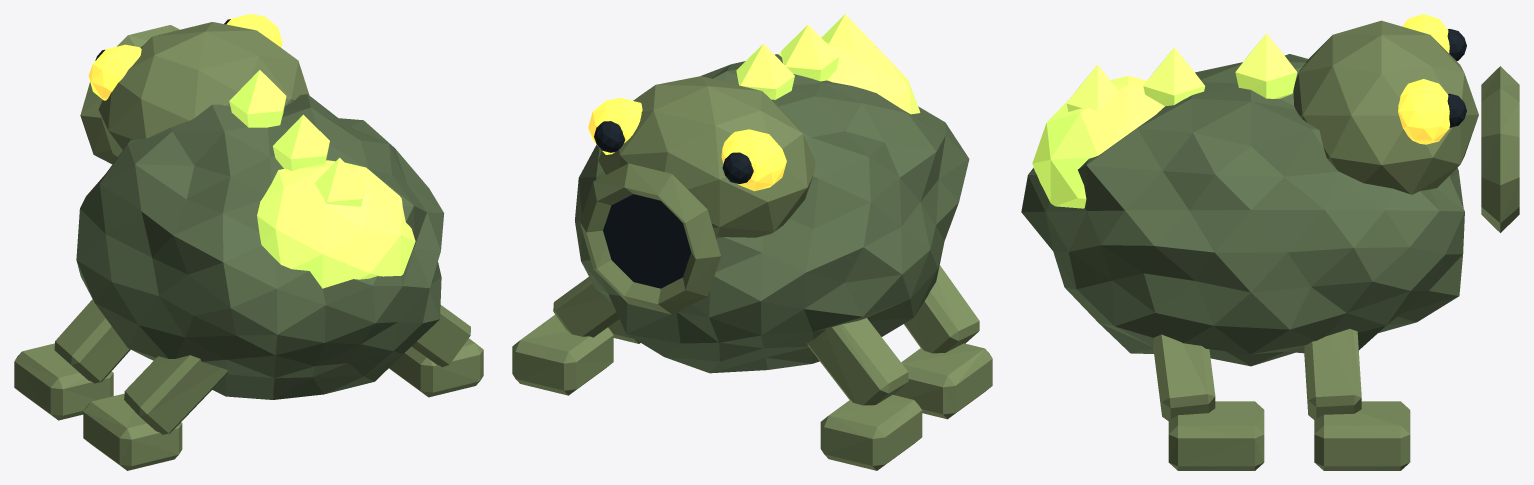
File: enemy_spitter.glb
3 renders of one model, left to right at view 1: azimuth 30°, elevation 25°; view 2: azimuth 150°, elevation 25°; view 3: azimuth 270°, elevation 25°, orthographic. The views are drawn at different scales.
Visible parts, largest first — view 1: body, venom_sac; view 2: body, venom_sac; view 3: body, venom_sac.
Boxes of the visible parts, bbox=[...] form: body: bbox=[14, 14, 483, 470]; venom_sac: bbox=[257, 160, 415, 288]; body: bbox=[512, 14, 992, 470]; venom_sac: bbox=[778, 42, 920, 114]; body: bbox=[1021, 14, 1519, 470]; venom_sac: bbox=[1032, 75, 1164, 208].
Bounding box in the file's own units: 1.16 × 1 × 1.3.
